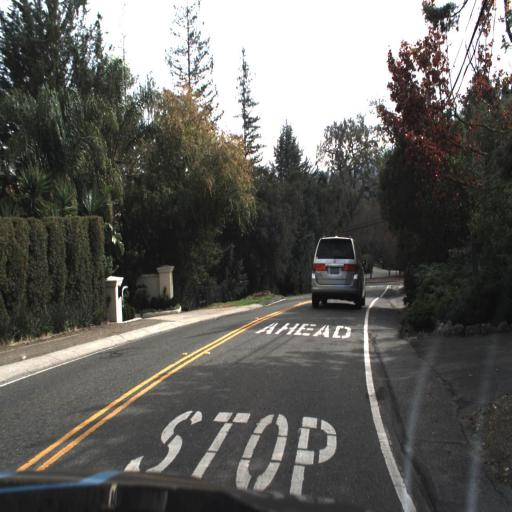car: (301, 231, 372, 308)
